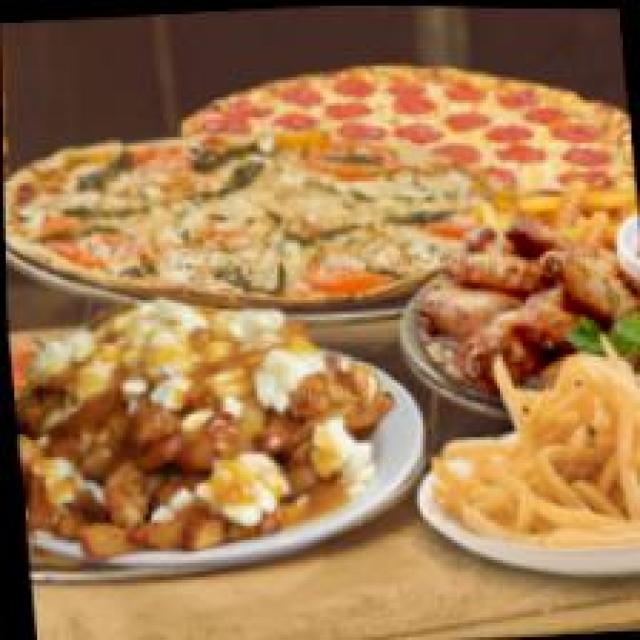Chicken Wings: (408, 207, 640, 378)
French Fries: (414, 342, 640, 564)
